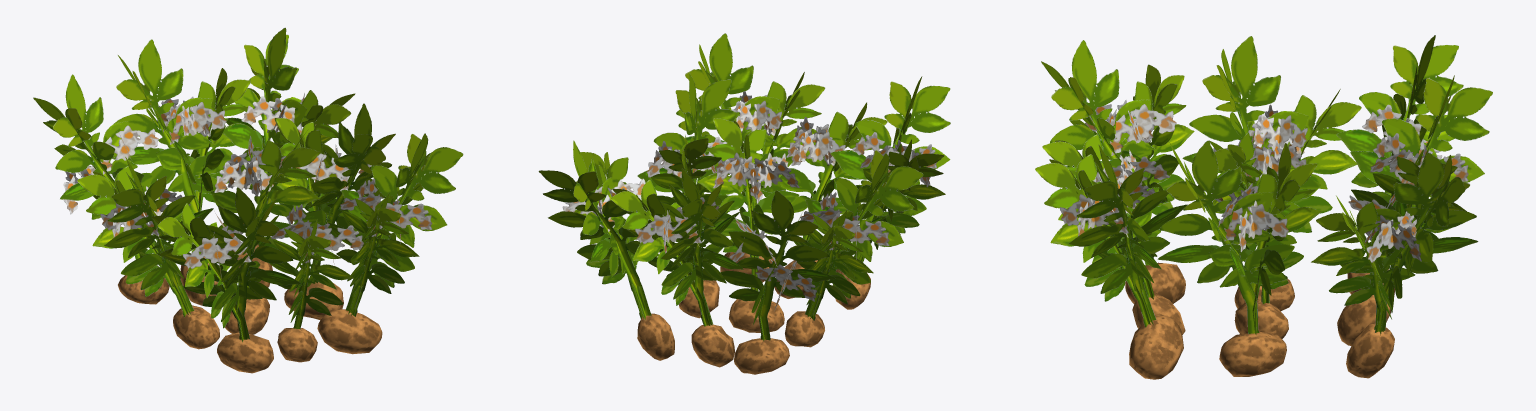
The model's file is Potato_Step03.fbx.
3 renders of one model, left to right at view 1: azimuth 30°, elevation 25°; view 2: azimuth 150°, elevation 25°; view 3: azimuth 270°, elevation 25°, orthographic. The views are drawn at different scales.
Parts seen in each view (by area): view 1: Potato_Step03; view 2: Potato_Step03; view 3: Potato_Step03.
Part boxes in pixels (x1=…): Potato_Step03: x1=33, y1=27, x2=463, y2=373; Potato_Step03: x1=538, y1=33, x2=950, y2=374; Potato_Step03: x1=1035, y1=35, x2=1492, y2=379.
Size of the model in its own units: 288 by 207 by 331.
